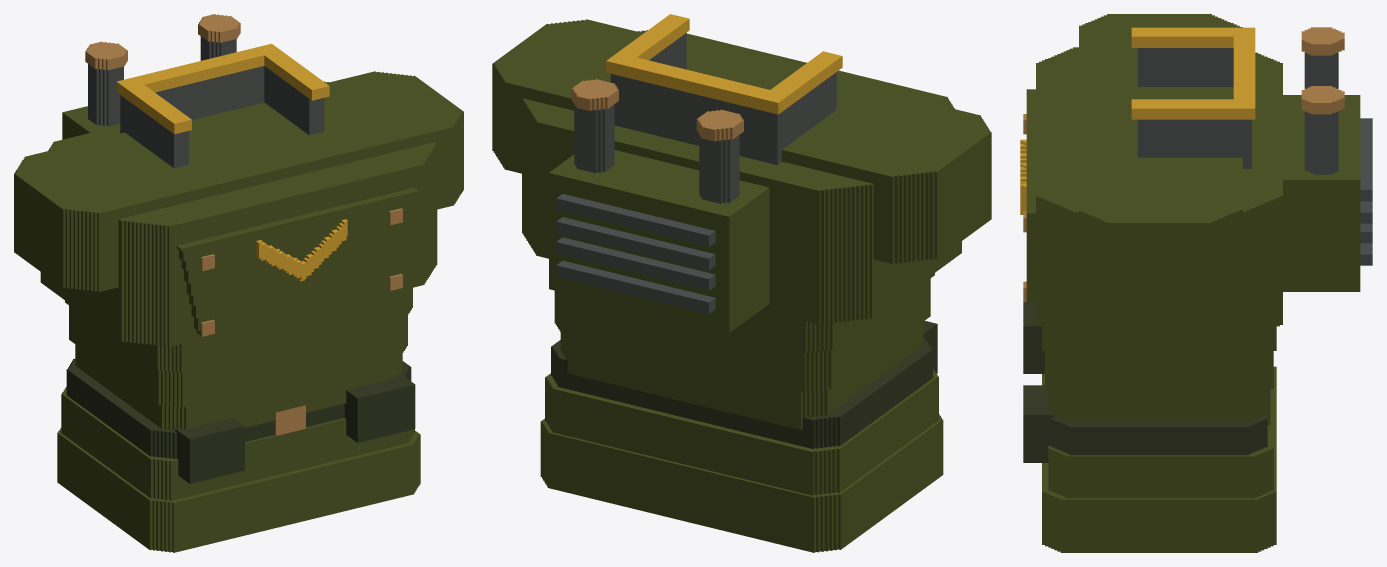
The model's file is armor_trooper_worn_body.glb.
The picture shows the model from 3 angles, left to right: view 1: azimuth 30°, elevation 25°; view 2: azimuth 150°, elevation 25°; view 3: azimuth 270°, elevation 25°; orthographic projection. The views are drawn at different scales.
Parts seen in each view (by area): view 1: armor_trooper_worn_body:compound; view 2: armor_trooper_worn_body:compound; view 3: armor_trooper_worn_body:compound.
Part boxes in pixels (box(x1,y1,x2,y2)): armor_trooper_worn_body:compound: box(14, 14, 463, 552); armor_trooper_worn_body:compound: box(492, 14, 991, 552); armor_trooper_worn_body:compound: box(1020, 14, 1372, 552).
Size of the model in its own units: 0.64 by 0.596 by 0.456.
